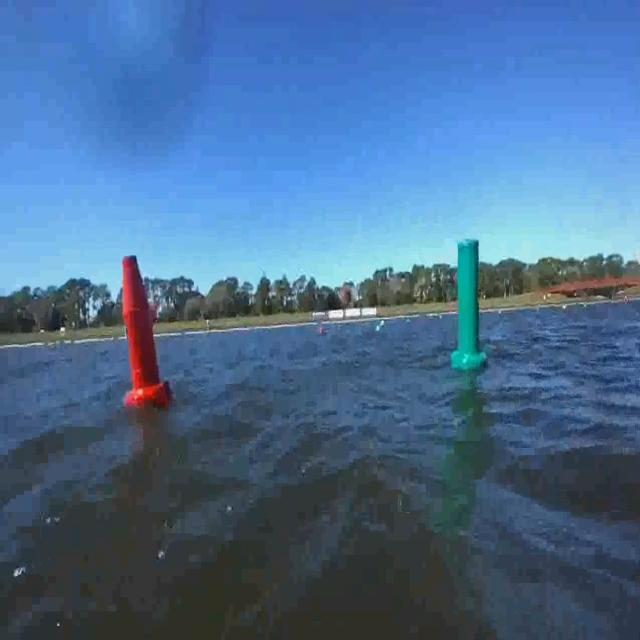green-column-buoy: (453, 240, 490, 375)
red-column-buoy: (120, 253, 172, 412)
